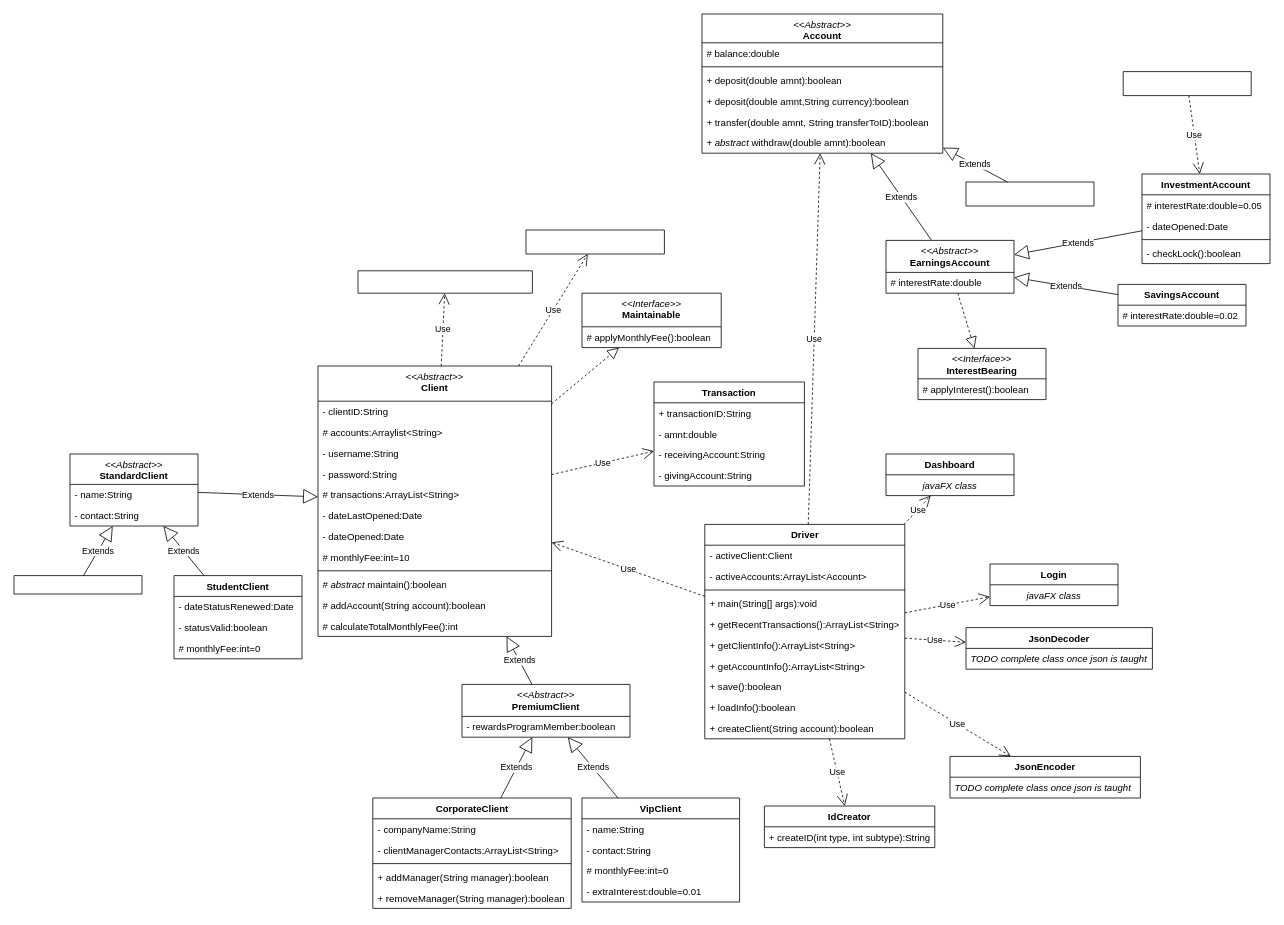
Image size: 1284x925. Some labels were removed from this diagram. The shapes that lost their labels are listed below. From the top down, each one's centre as x and y in pixels, then its label:
At (1186,83): "InvestmentLockException".
At (1029,193): "ChequingAccount".
At (594,241): "InsufficientFundsException".
At (444,281): "MissingChequingAccountException".
At (77,584): "IndividualClient".
